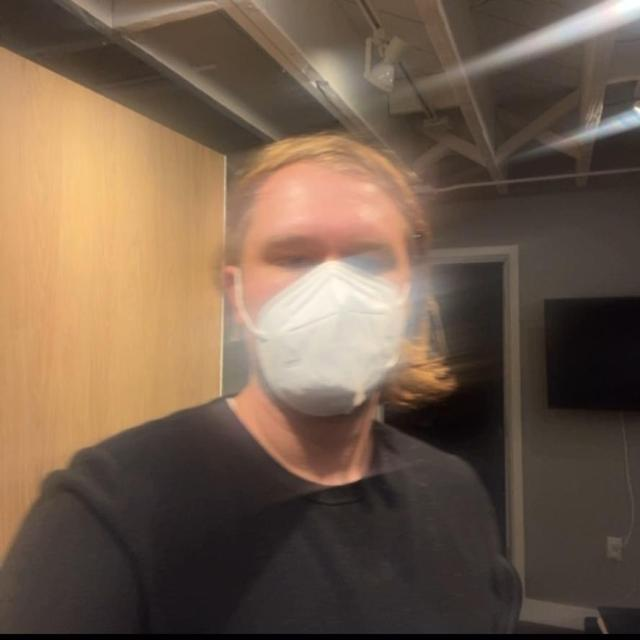no-helmet: (205, 110, 454, 418)
